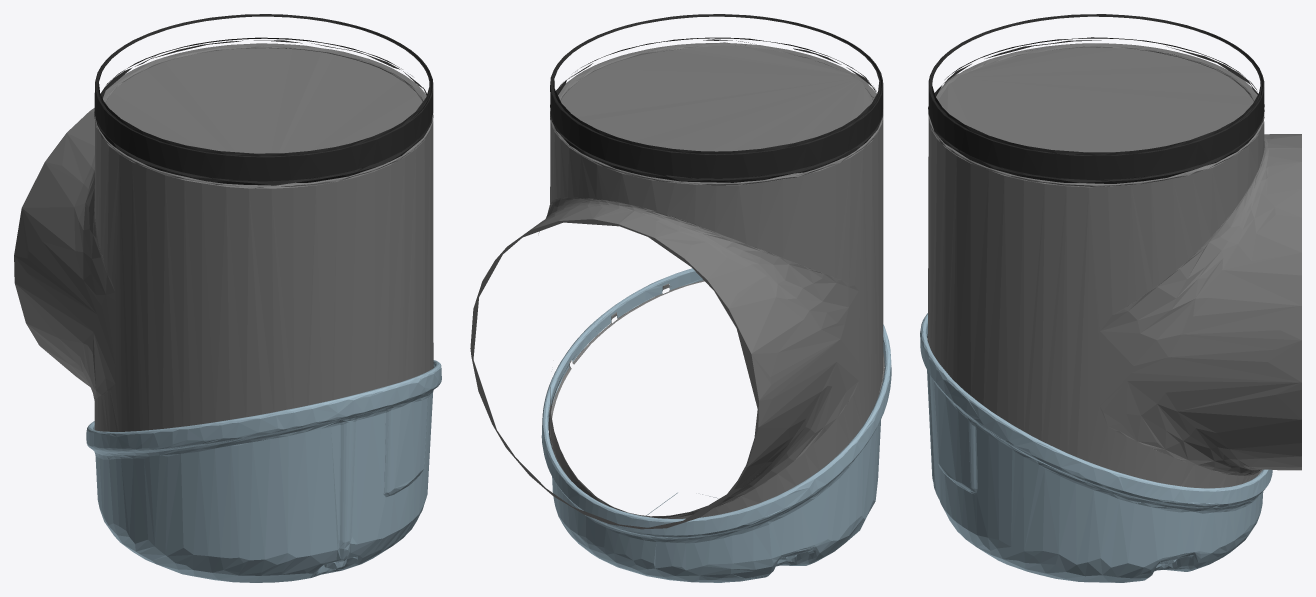
Rendered from wrist2.glb.
3 views of the same model, side by side, from view 1: azimuth 30°, elevation 25°; view 2: azimuth 150°, elevation 25°; view 3: azimuth 270°, elevation 25° (orthographic).
Visible parts, largest first — view 1: wrist2_0, wrist2_1, wrist2_2; view 2: wrist2_0, wrist2_1, wrist2_2; view 3: wrist2_0, wrist2_1, wrist2_2.
Part boxes in pixels (box(x1,y1,x2,y2)): wrist2_0: box(14, 43, 434, 431); wrist2_1: box(86, 360, 441, 582); wrist2_2: box(94, 14, 433, 185); wrist2_0: box(470, 42, 884, 529); wrist2_1: box(541, 268, 891, 582); wrist2_2: box(550, 14, 883, 182); wrist2_0: box(927, 43, 1301, 488); wrist2_1: box(920, 313, 1272, 582); wrist2_2: box(928, 14, 1264, 183).
Size of the model in its own units: 0.0787 by 0.1099 by 0.0852.
